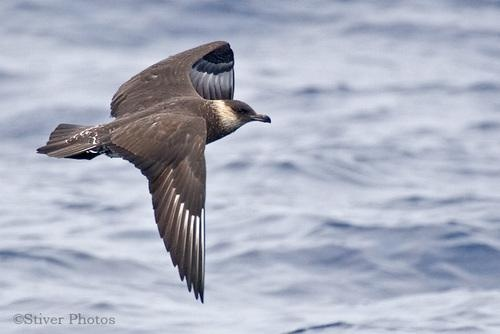bird: (34, 41, 272, 304)
